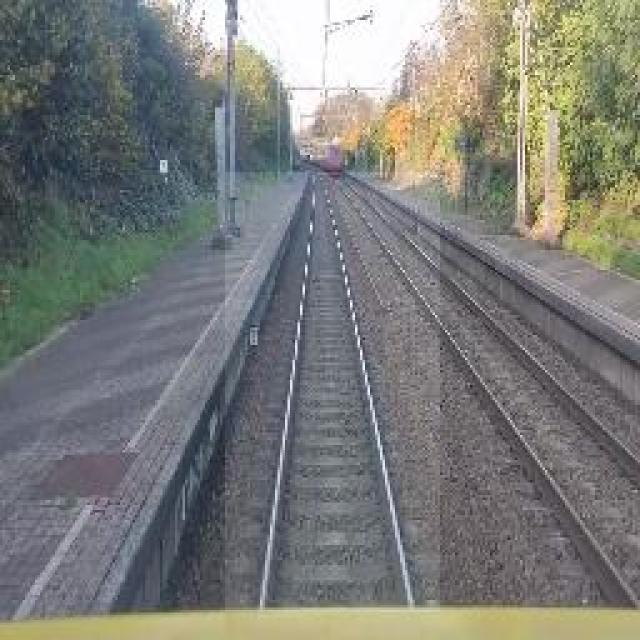rail: (226, 173, 441, 613)
